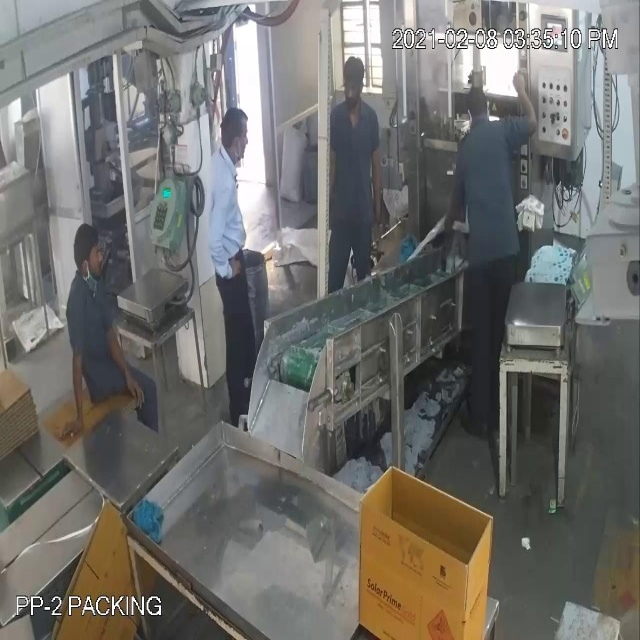Sin_guantes: (96, 309, 152, 424), (48, 323, 89, 450), (427, 171, 470, 259), (504, 69, 544, 151), (209, 191, 238, 302), (365, 131, 394, 241)
